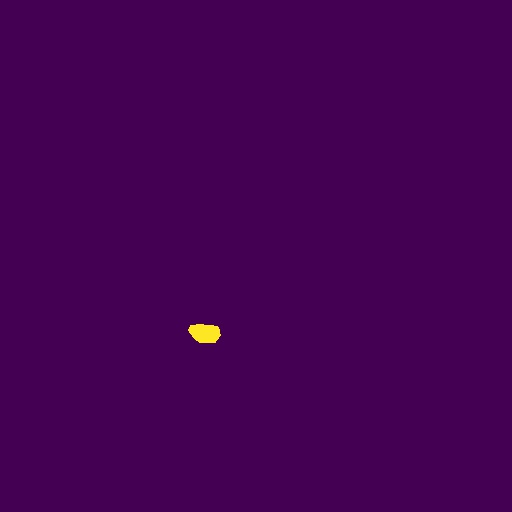Pituirity_tumour: (188, 324, 221, 343)
